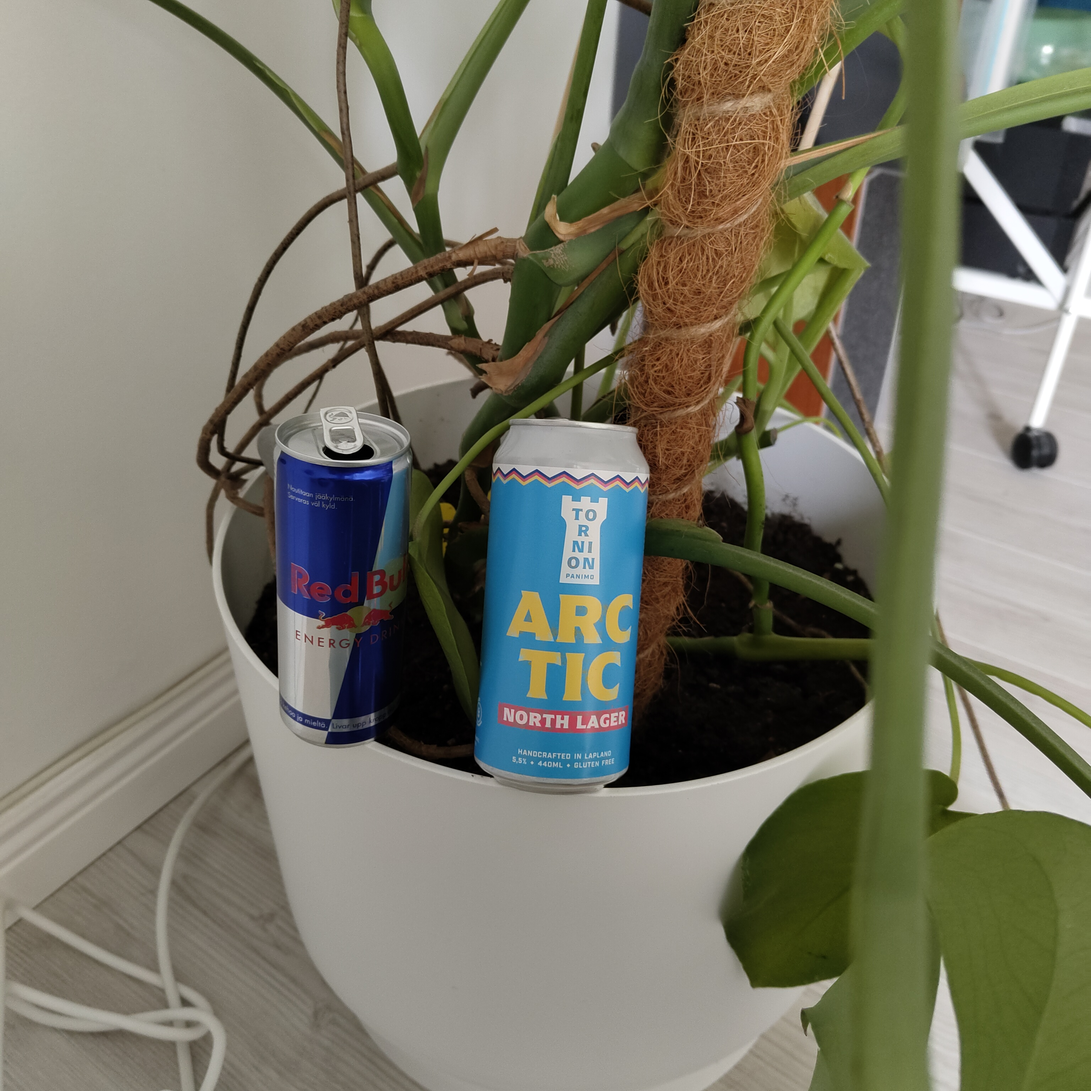Pantburk: (473, 418, 650, 795), (273, 405, 412, 749)
